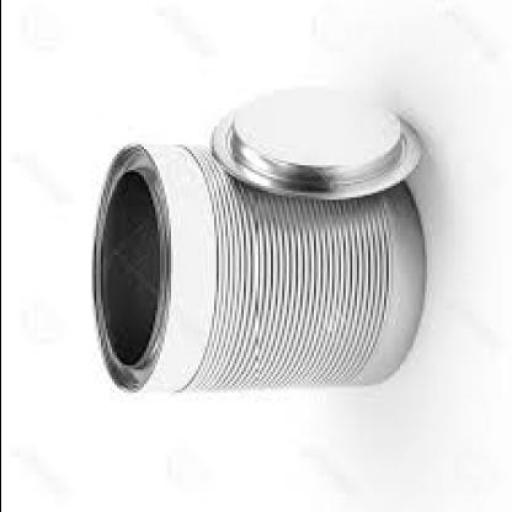metal: (89, 149, 421, 395), (210, 101, 424, 204)
